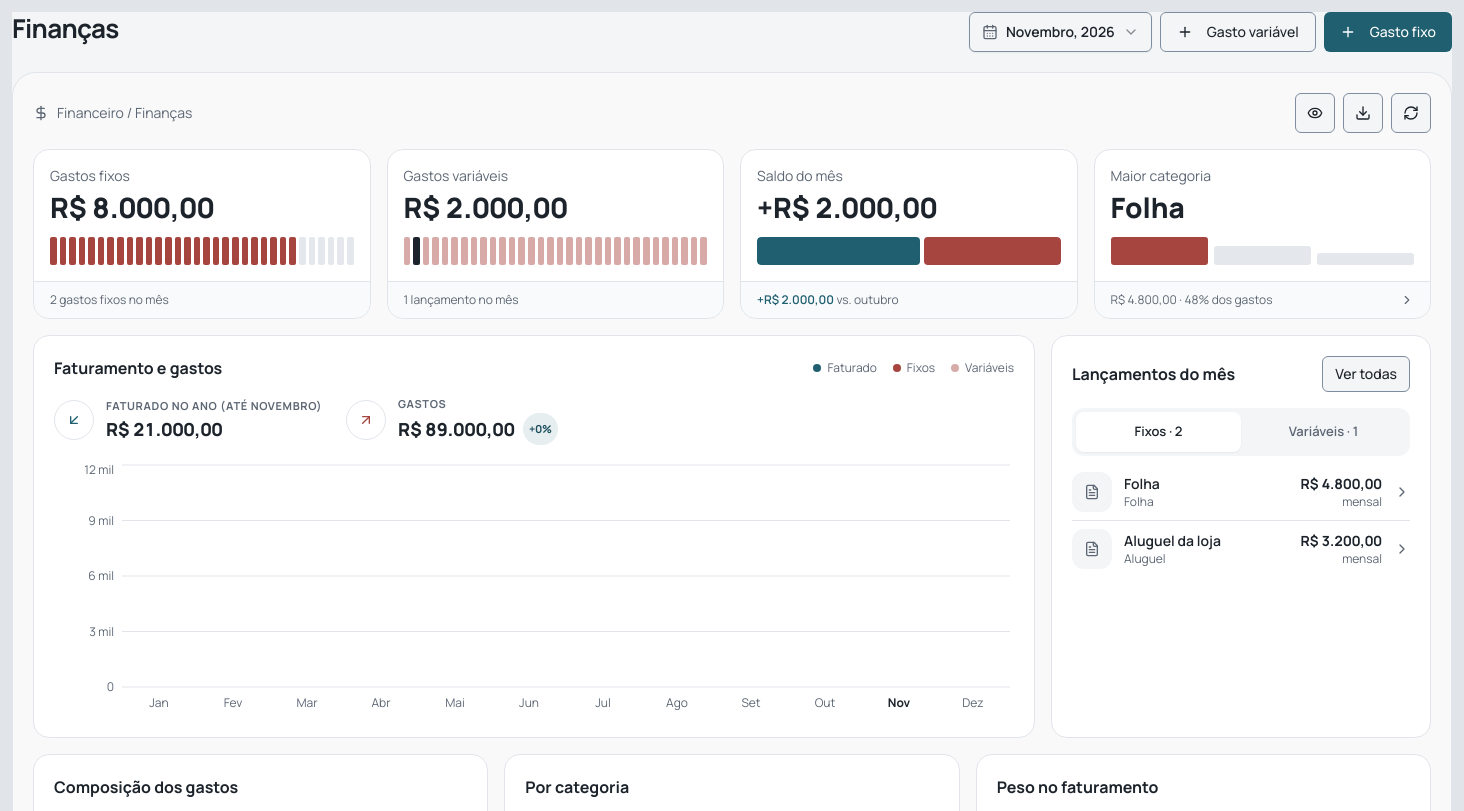
Scenario: Finanças (fase 8) › identifica o mês de corte do faturamento acumulado
Expected: the text "Faturado no ano (até novembro)" is shown, [106,398,322,414]
Click the dropdown named "Mês".
click(1060, 32)  # box [969,12,1152,52]
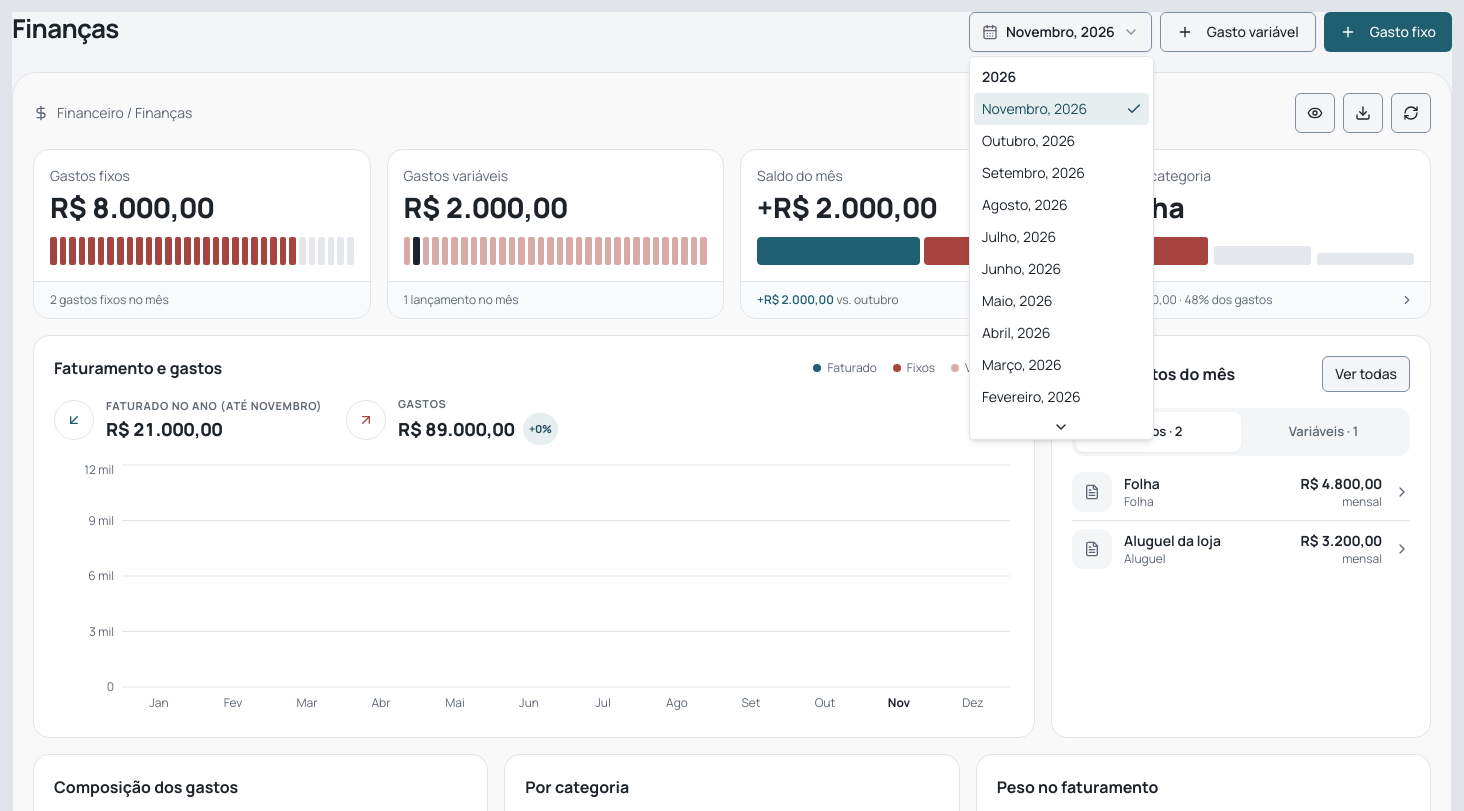
Click the option "Outubro, 2026".
click(1029, 140)  # box [982,131,1075,150]
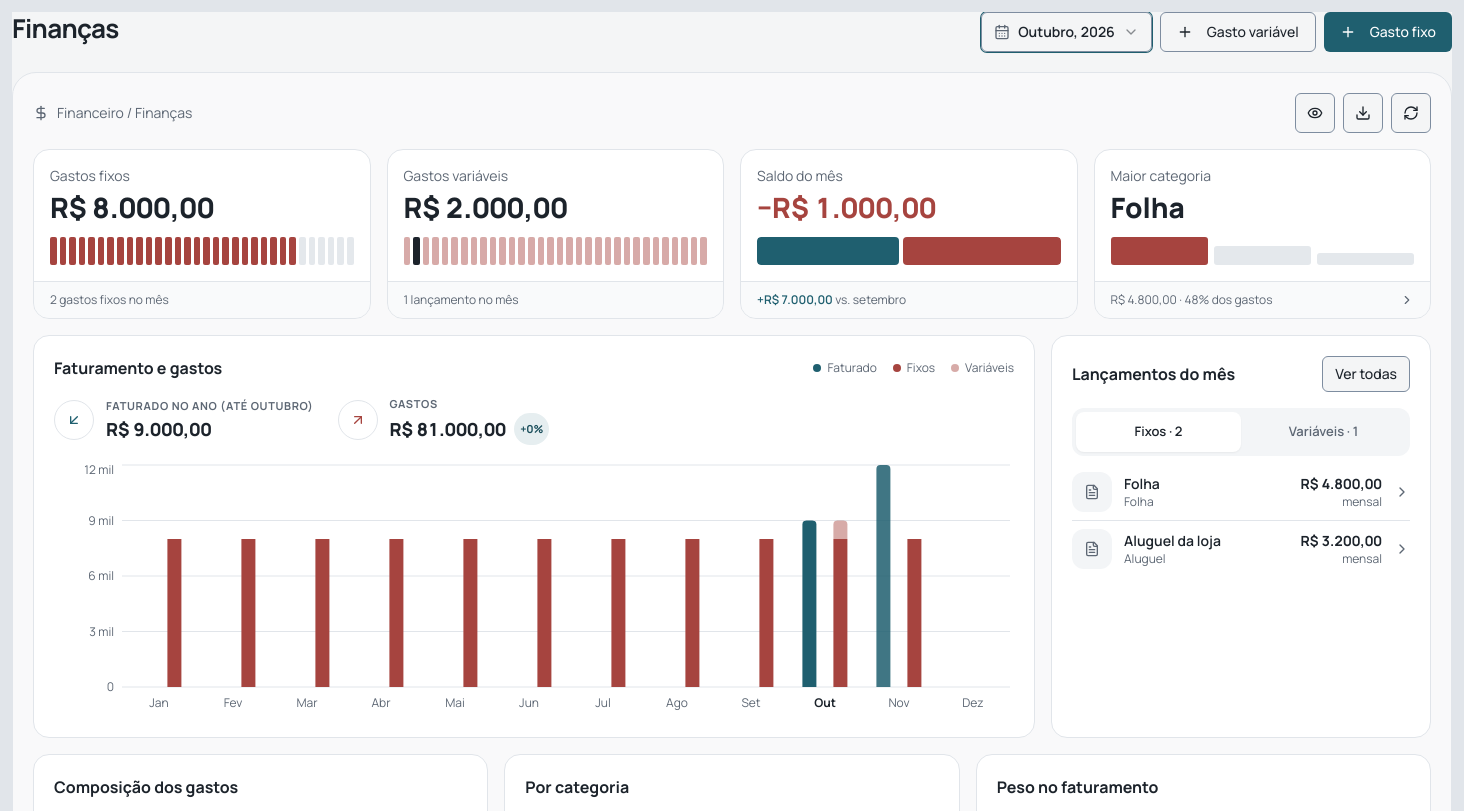
Expected: the text "Faturado no ano (até outubro)" is shown, [106,398,314,414]
